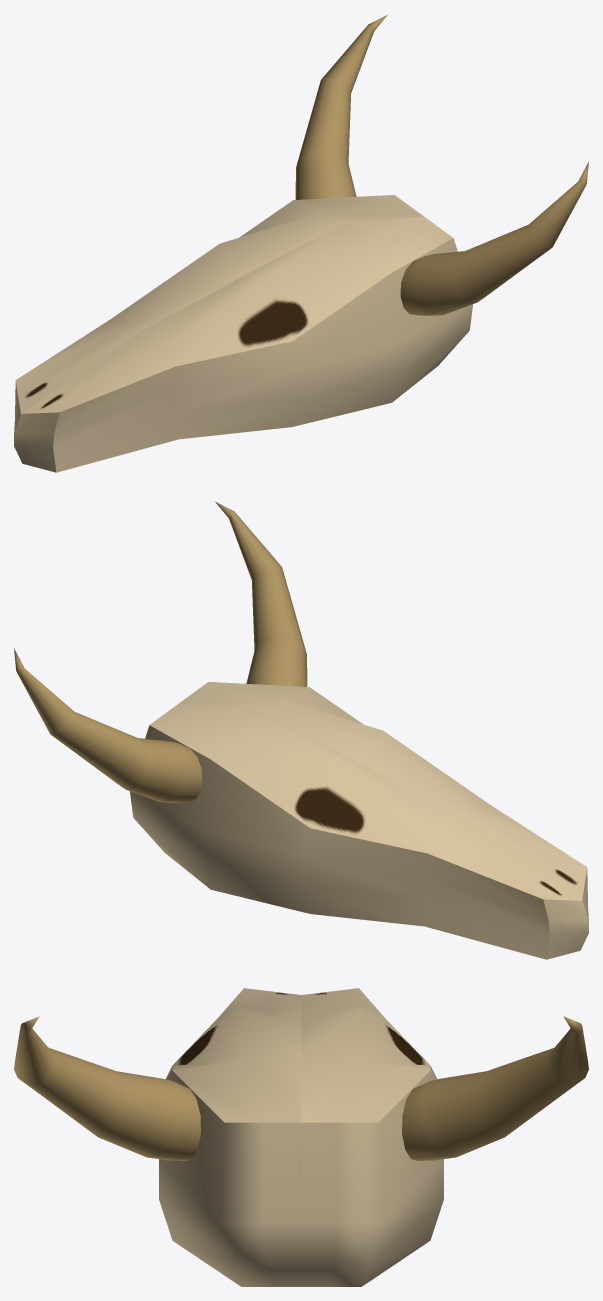
Rendered from skull.fbx.
3 views of the same model, one above another, from view 1: azimuth 30°, elevation 25°; view 2: azimuth 150°, elevation 25°; view 3: azimuth 270°, elevation 25° (orthographic). The views are drawn at different scales.
Parts seen in each view (by area): view 1: group6_pCylinder16; view 2: group6_pCylinder16; view 3: group6_pCylinder16.
Part boxes in pixels (x1,y1,x2,y2): group6_pCylinder16: (14, 14, 588, 472); group6_pCylinder16: (14, 501, 588, 959); group6_pCylinder16: (14, 988, 588, 1286).
Size of the model in its own units: 0.1305 by 0.0689 by 0.1049.
